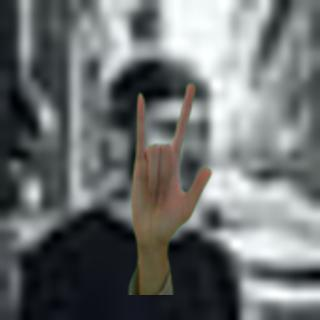ILY: (121, 80, 217, 252)
